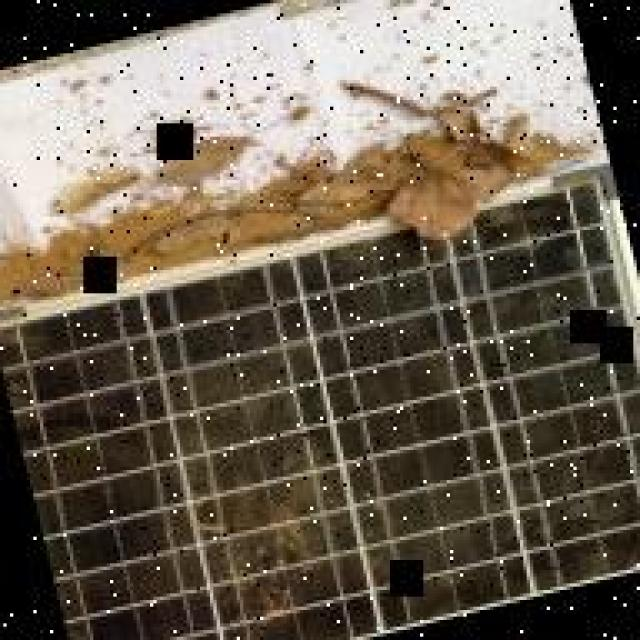dust-solar-panel: (1, 180, 640, 638)
